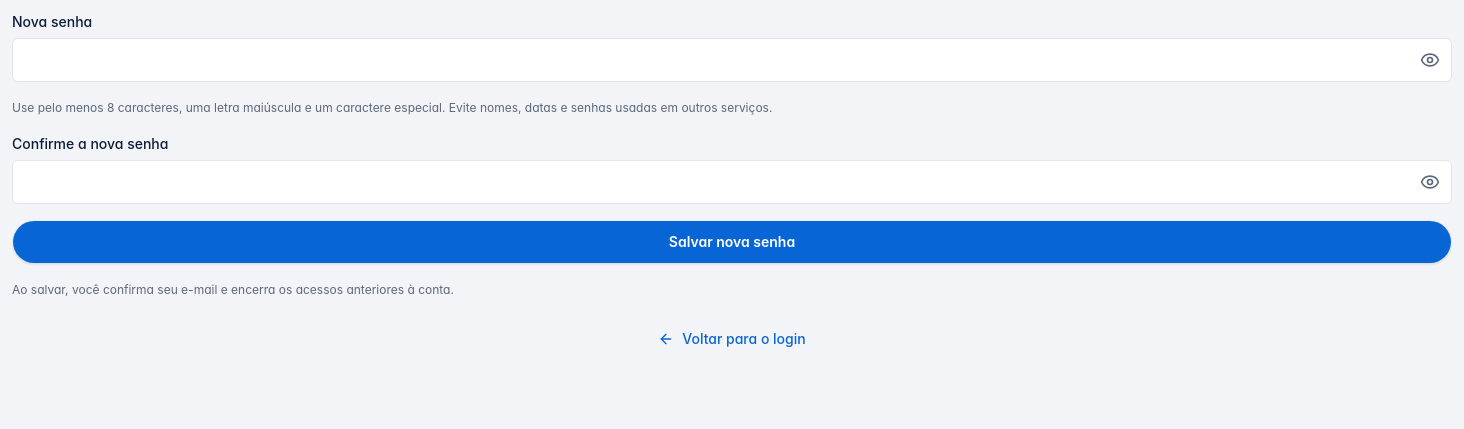
confirmação diferente bloqueia envio e sucesso remove segredo da URL
Type "SenhaSegura123!" into the password field labelled "Nova senha" at (732, 60), box [12,38,1452,82]
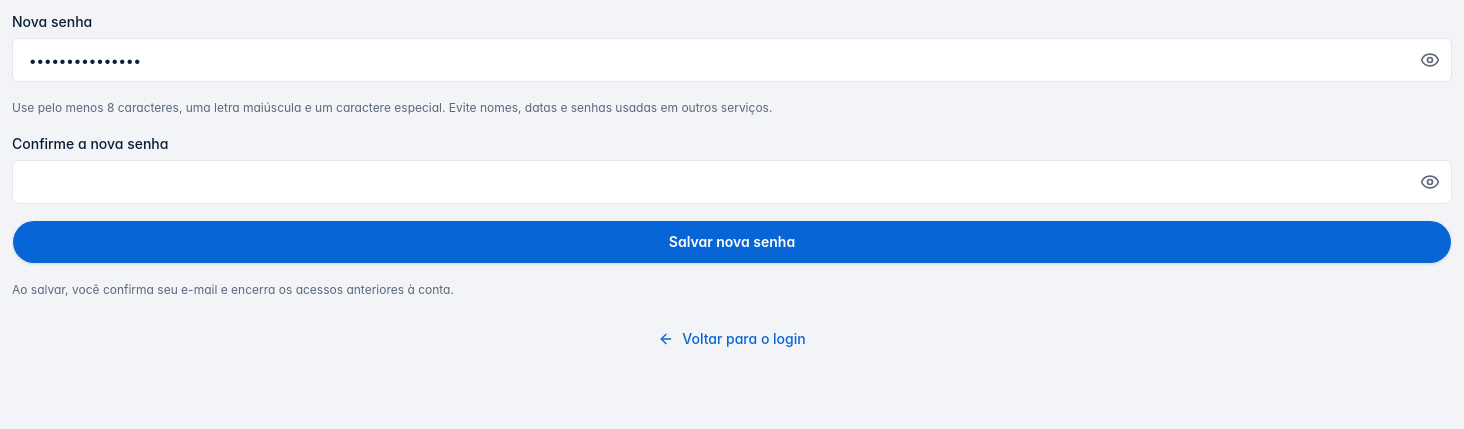
Type "SenhaDiferente123!" into the password field labelled "Confirme a nova senha" at (732, 182), box [12,160,1452,204]
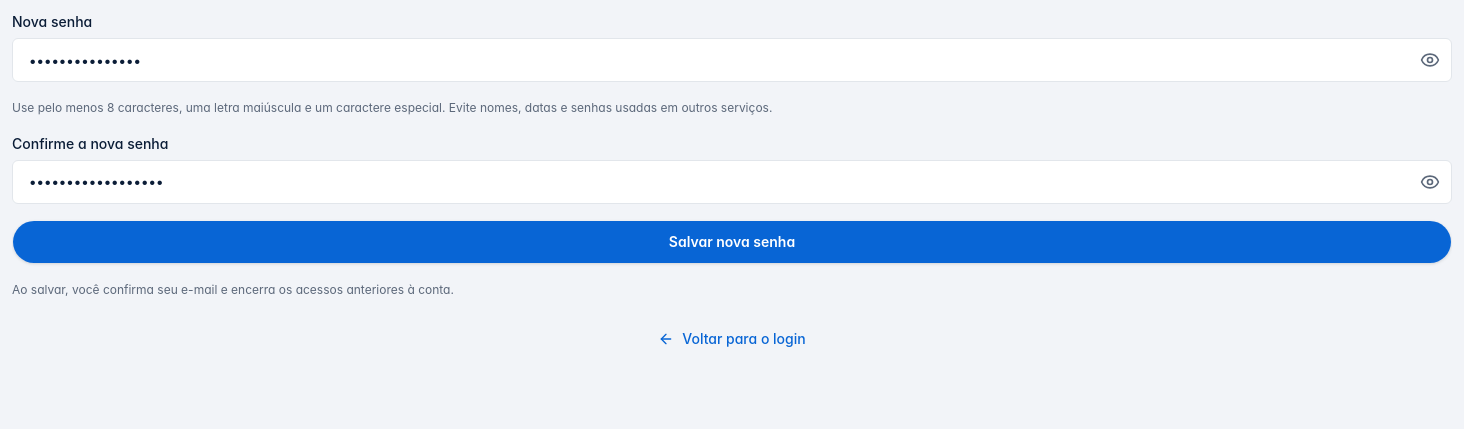
Click the button "Salvar nova senha" at (732, 242), box [12,220,1452,264]
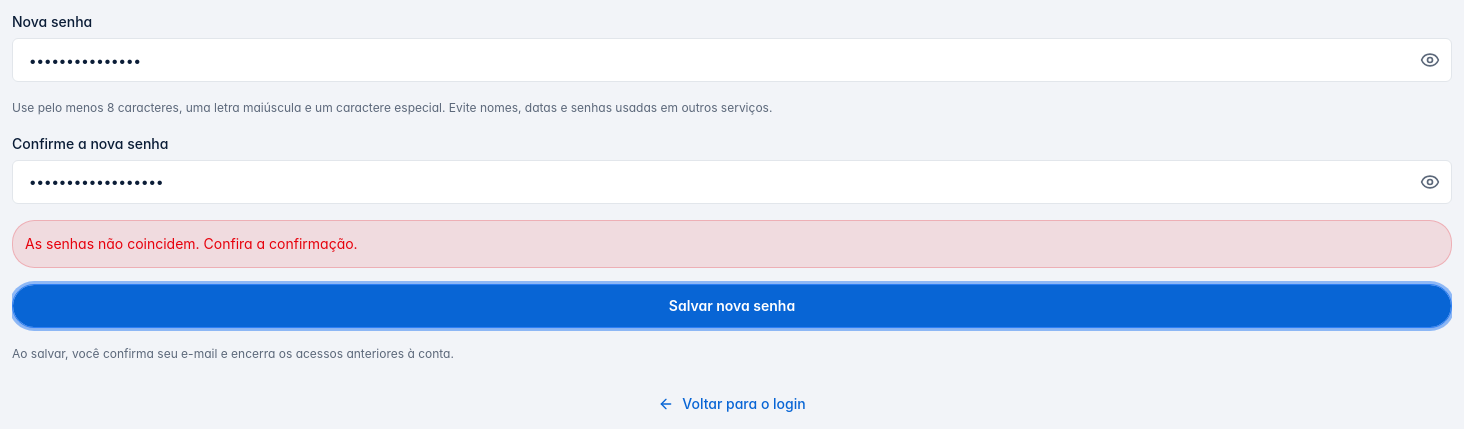
Result: the text "As senhas não coincidem. Confira a confirmação." is shown at [12,220,1452,268]
Type "SenhaSegura123!" into the password field labelled "Confirme a nova senha" at (732, 182), box [12,160,1452,204]
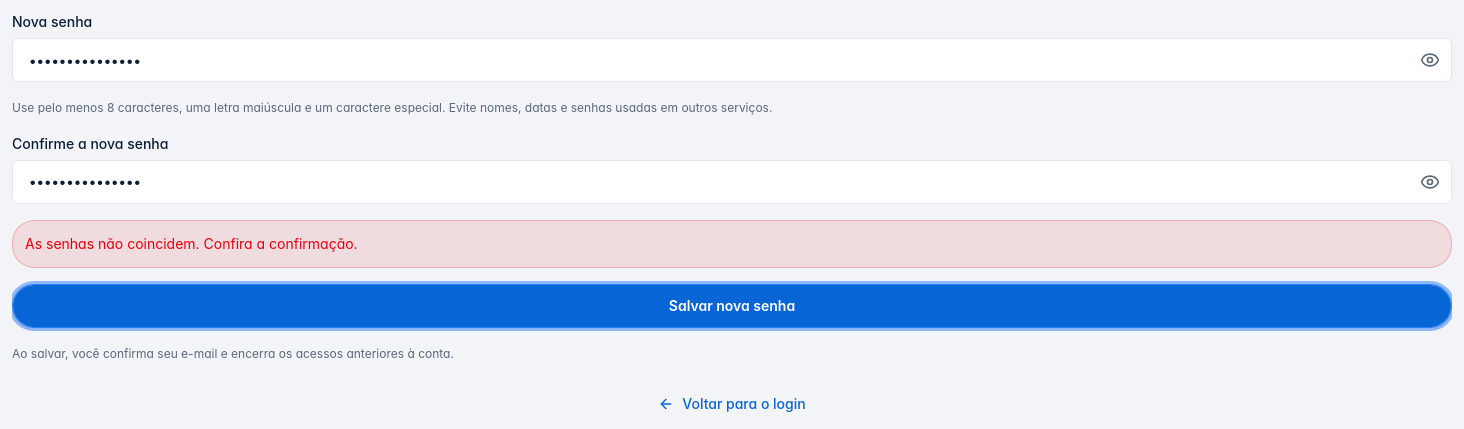
Click the button "Salvar nova senha" at (732, 306), box [12,284,1452,328]
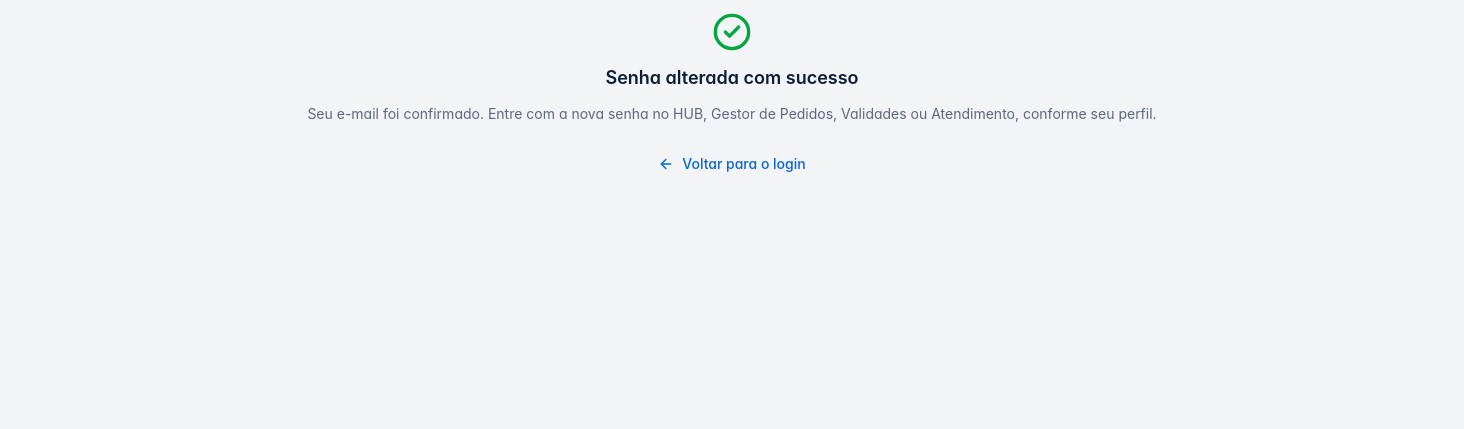
Result: the text "Senha alterada com sucesso" is shown at [605,67,858,88]
